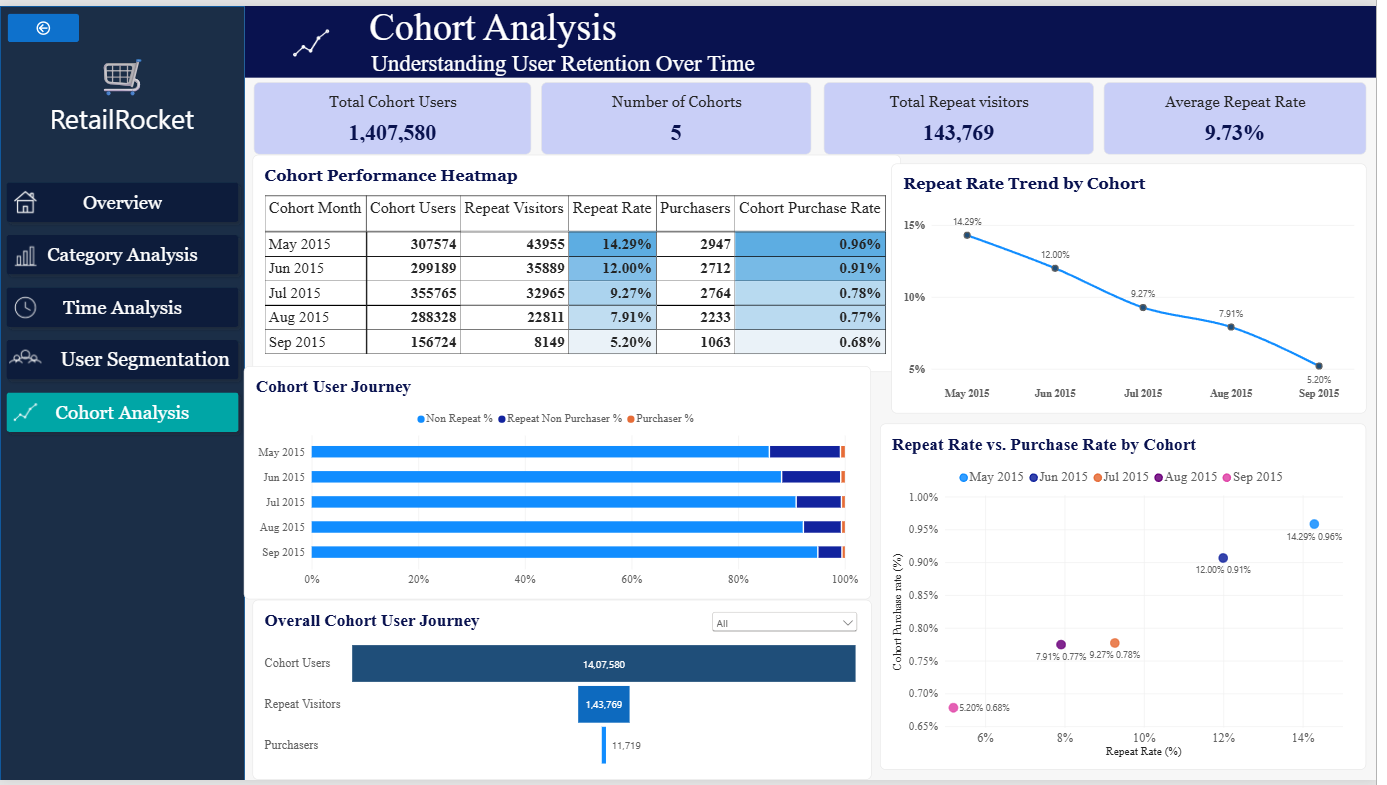

This screenshot's page, from the dashboard's own definition file:
{"tool":"powerbi","page":{"name":"Cohort Analysis","canvas":[1920,1080],"ordinal":4},"visuals":[{"type":"shape","box":[0,0,341.9,1081.4],"z":0},{"type":"textbox","title":"Category Analysis","box":[342,0,1578,100],"z":0,"group":"g1"},{"type":"funnel","title":"Overall Cohort User Journey","fields":{"Category":["Cohort Funnel.Stage"],"Y":["Cohort Funnel.Funnel Value"]},"box":[352.2,828.1,863.7,251.1],"z":0,"group":"g2"},{"type":"actionButton","box":[0,237.2,341.9,73.3],"z":1000},{"type":"slicer","fields":{"Values":["Cohort.Cohort Month"]},"box":[989.3,841,212.1,45],"z":1000,"group":"g2"},{"type":"actionButton","box":[0,310.5,341.9,73.3],"z":2000},{"type":"actionButton","box":[0,383.7,341.9,73.3],"z":3000},{"type":"actionButton","box":[0,457,341.9,73.3],"z":4000},{"type":"actionButton","box":[0,530.2,341.9,73.3],"z":5000},{"type":"textbox","box":[29.7,41.9,280.8,177.9],"z":6000},{"type":"group","id":"g1","title":"Group 1","box":[342,0,1578,100],"z":7000},{"type":"card","title":"Total Cohort Users","fields":{"Values":["Category.Total Cohort Users"]},"box":[354.1,106.4,387.2,101.2],"z":8000},{"type":"card","title":"Number of Cohorts","fields":{"Values":["Count(Cohort.cohort_month)"]},"box":[755.2,106.4,376.7,101.2],"z":9000},{"type":"card","title":"Total Repeat visitors","fields":{"Values":["Cohort.Total Repeat Visitors"]},"box":[1149.4,106.4,376.7,101.2],"z":10000},{"type":"card","title":"Average Repeat Rate","fields":{"Values":["Avg(Cohort.Repeat Rate)"]},"box":[1540.1,106.4,366.3,101.2],"z":11000},{"type":"pivotTable","title":"Cohort Performance Heatmap","fields":{"Rows":["Cohort.Cohort Month"],"Values":["Sum(Cohort.cohort_users)","Sum(Cohort.repeat_visitors)","Sum(Cohort.Repeat Rate)","Sum(Cohort.purchasers)","Sum(Cohort.Cohort Purchase rate)"]},"box":[352.2,208,904.9,303.5],"z":12000},{"type":"lineChart","title":"Repeat Rate Trend by Cohort","fields":{"Category":["Cohort.Cohort Month"],"Y":["Sum(Cohort.Repeat Rate)"]},"box":[1244,219.2,663.2,348.5],"z":13000},{"type":"scatterChart","title":"Repeat Rate vs. Purchase Rate by Cohort","fields":{"Series":["Cohort.Cohort Month"],"X":["Cohort.Repeat Rate"],"Y":["Cohort.Cohort Purchase rate"]},"box":[1227.9,582.6,678.5,483.1],"z":14000},{"type":"hundredPercentStackedBarChart","title":" Cohort User Journey","fields":{"Category":["Cohort.Cohort Month"],"Y":["Cohort.Non Repeat %","Cohort.Repeat Non Purchaser %","Cohort.Purchaser %"]},"box":[341,502.1,874.9,326],"z":15000},{"type":"group","id":"g2","title":"Group 2","box":[352.2,828.1,863.7,251.1],"z":16000},{"type":"image","box":[387.8,16.9,93.7,69.3],"z":17000},{"type":"actionButton","box":[10,10,100,40],"z":18000}]}

Visuals, with their boxes on the page's 1920x1080 design canvas (x1, y1, x2, y2). These are canvas units, not pixel positions in the 1387x785 screenshot, which may show the page scaled, cropped or inside an application window:
shape: [0, 0, 342, 1081]
"Category Analysis" textbox: [342, 0, 1920, 100]
"Overall Cohort User Journey" funnel: [352, 828, 1216, 1079]
actionButton: [0, 237, 342, 310]
slicer - Cohort.Cohort Month: [989, 841, 1201, 886]
actionButton: [0, 310, 342, 384]
actionButton: [0, 384, 342, 457]
actionButton: [0, 457, 342, 530]
actionButton: [0, 530, 342, 604]
textbox: [30, 42, 310, 220]
"Group 1" group: [342, 0, 1920, 100]
"Total Cohort Users" card: [354, 106, 741, 208]
"Number of Cohorts" card: [755, 106, 1132, 208]
"Total Repeat visitors" card: [1149, 106, 1526, 208]
"Average Repeat Rate" card: [1540, 106, 1906, 208]
"Cohort Performance Heatmap" pivotTable: [352, 208, 1257, 512]
"Repeat Rate Trend by Cohort" lineChart: [1244, 219, 1907, 568]
"Repeat Rate vs. Purchase Rate by Cohort" scatterChart: [1228, 583, 1906, 1066]
" Cohort User Journey" hundredPercentStackedBarChart: [341, 502, 1216, 828]
"Group 2" group: [352, 828, 1216, 1079]
image: [388, 17, 482, 86]
actionButton: [10, 10, 110, 50]
